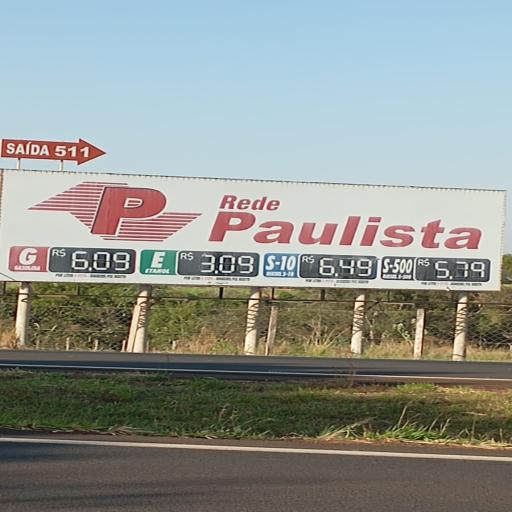ETANOL: (144, 251, 172, 274)
GASOLINA C: (11, 247, 45, 272)
S10: (264, 254, 298, 278)
S500: (382, 257, 413, 282)
placa: (1, 190, 498, 292)
preco: (67, 248, 133, 272), (316, 253, 374, 279), (197, 252, 257, 274), (433, 258, 487, 280)
